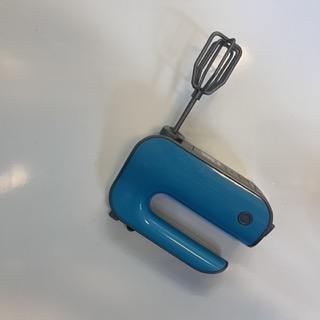mixer: (108, 32, 274, 275)
